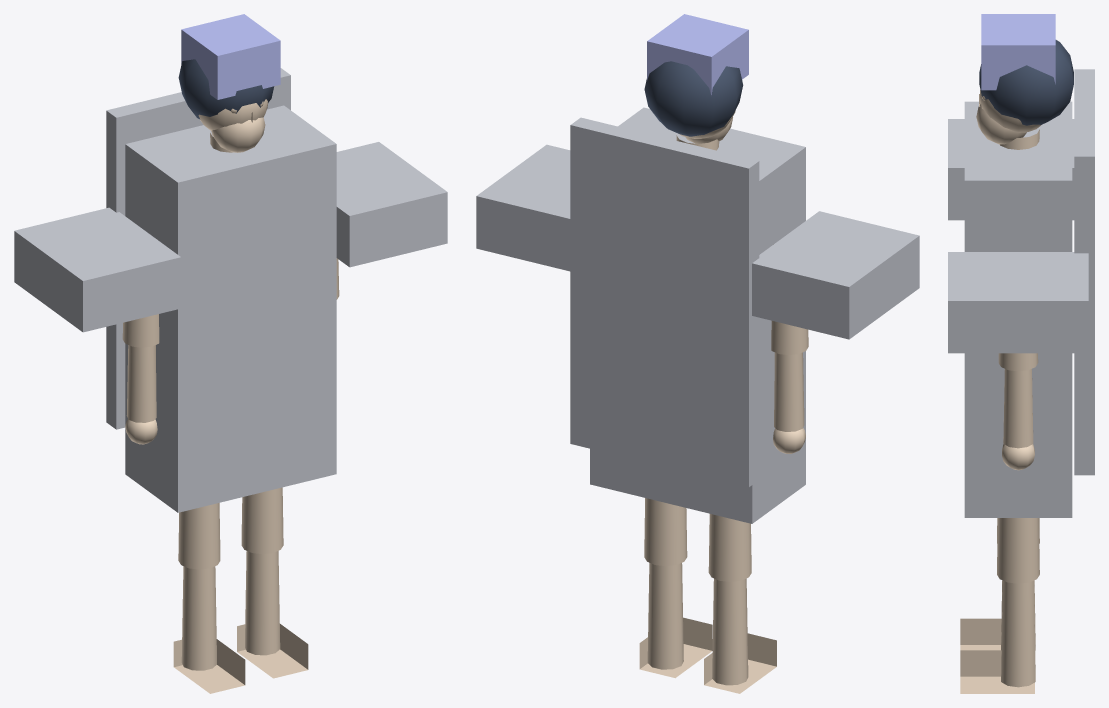
Rendered from body.glb.
3 renders of one model, left to right at view 1: azimuth 30°, elevation 25°; view 2: azimuth 150°, elevation 25°; view 3: azimuth 270°, elevation 25°, orthographic. The views are drawn at different scales.
Parts seen in each view (by area): view 1: Cloth, Skin, Metal, Hair; view 2: Cloth, Skin, Hair, Metal; view 3: Cloth, Skin, Metal, Hair.
Part boxes in pixels (x1=…): Cloth: x1=14, y1=68, x2=447, y2=512; Skin: x1=122, y1=99, x2=339, y2=693; Metal: x1=181, y1=14, x2=280, y2=99; Hair: x1=178, y1=59, x2=274, y2=119; Cloth: x1=476, y1=107, x2=919, y2=523; Skin: x1=639, y1=110, x2=808, y2=693; Hair: x1=644, y1=61, x2=743, y2=136; Metal: x1=647, y1=14, x2=748, y2=95; Cloth: x1=948, y1=69, x2=1094, y2=517; Skin: x1=960, y1=90, x2=1040, y2=693; Metal: x1=981, y1=14, x2=1055, y2=90; Hair: x1=979, y1=40, x2=1073, y2=125.
Size of the model in its own units: 1.04 by 1.71 by 0.355.
